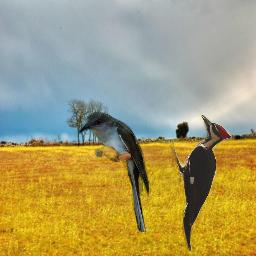Cuckoo: (78, 112, 151, 232)
Woodpecker: (169, 114, 232, 251)
